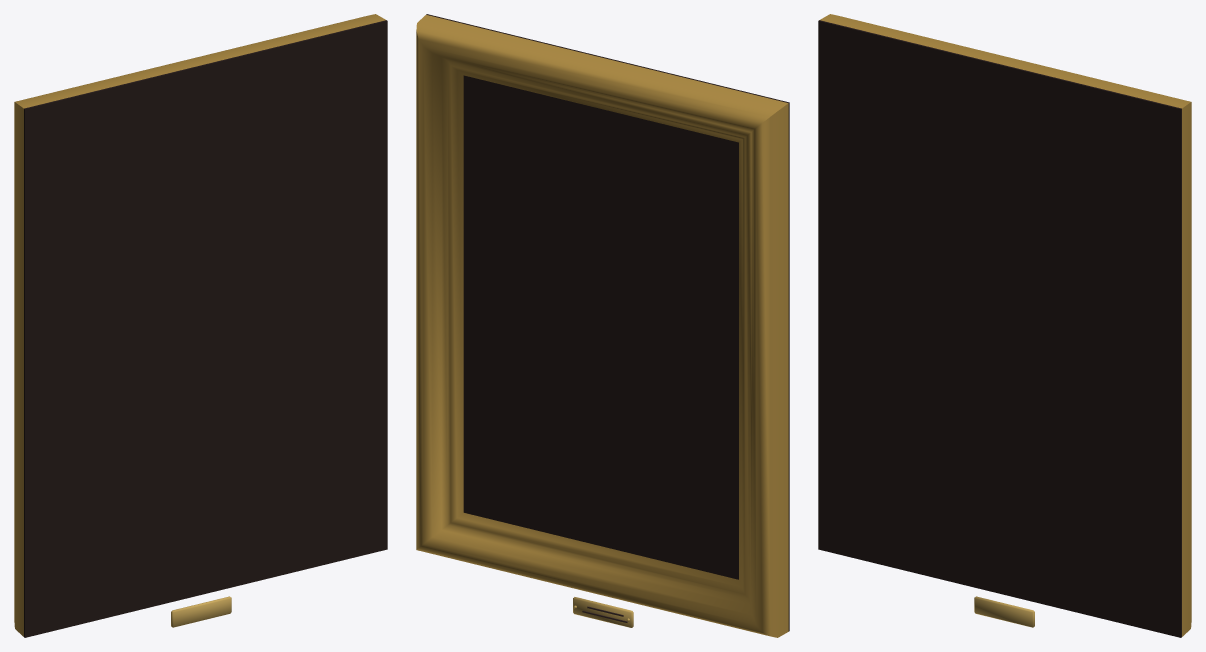
File: gilt_simple_full.glb
The picture shows the model from 3 angles, left to right: view 1: azimuth 30°, elevation 25°; view 2: azimuth 150°, elevation 25°; view 3: azimuth 330°, elevation 25°; orthographic projection.
Visible parts, largest first — view 1: gilt_simple_full; view 2: gilt_simple_full; view 3: gilt_simple_full.
Part boxes in pixels (<box>): gilt_simple_full: <box>14,14,387,637</box>; gilt_simple_full: <box>416,14,789,637</box>; gilt_simple_full: <box>818,14,1191,637</box>.
Size of what is drawn, in the model's own units: 0.847 by 1.25 by 0.074.
